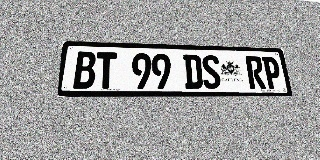9: (132, 53, 152, 89), (152, 53, 172, 89)
B: (73, 51, 96, 89)
D: (183, 54, 203, 89)
P: (262, 56, 283, 89)
R: (245, 56, 266, 89)
S: (201, 55, 222, 89)
T: (95, 52, 117, 89)
